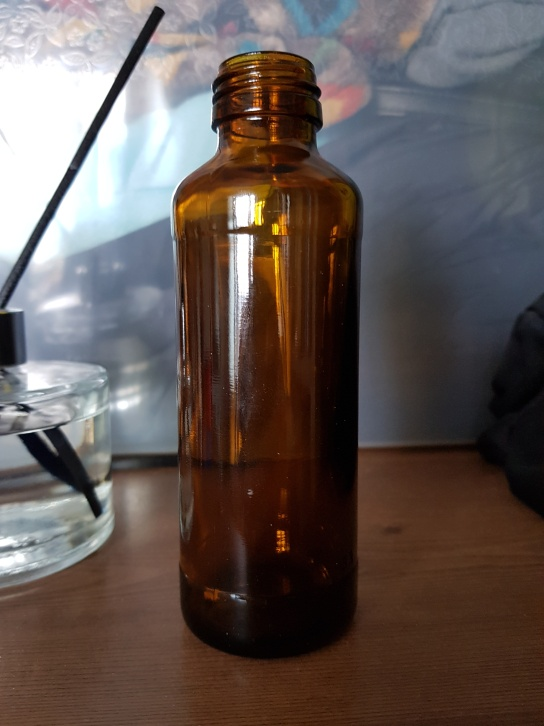Glass: (166, 48, 368, 664)
